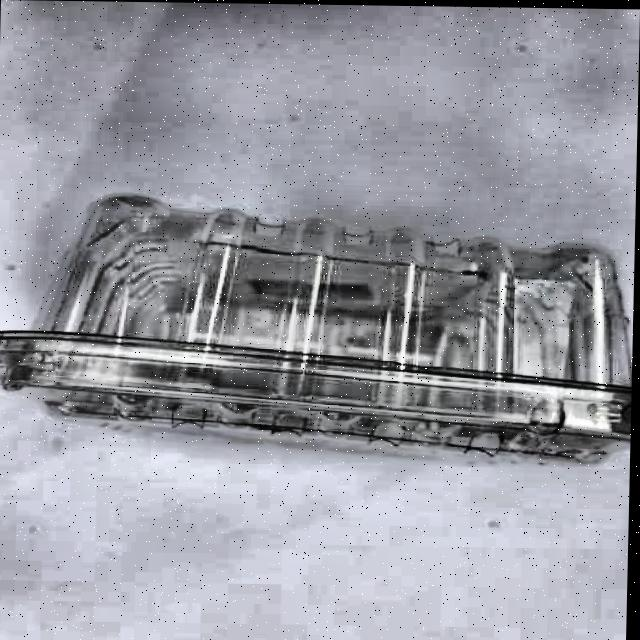plastic: (0, 190, 636, 468)
